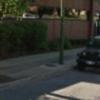cars: (74, 37, 100, 73)
